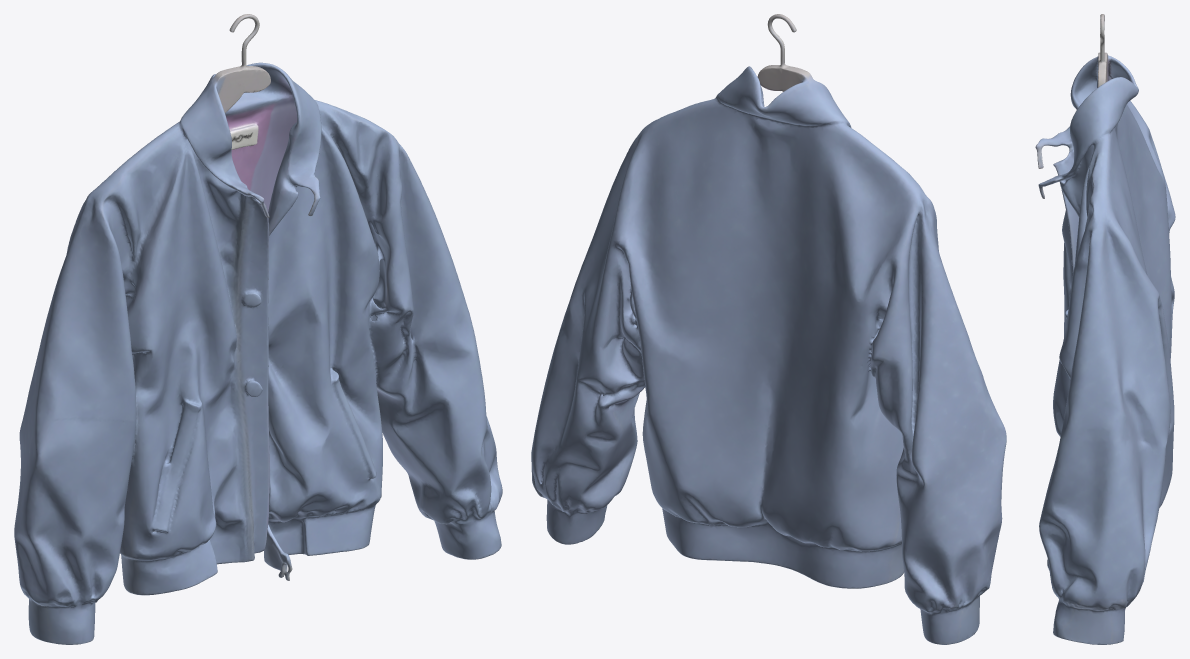
Rendered from Meshy_AI_Prism_Glow_Bomber_1017113150_texture.glb.
3 views of the same model, side by side, from view 1: azimuth 30°, elevation 25°; view 2: azimuth 150°, elevation 25°; view 3: azimuth 270°, elevation 25° (orthographic). The views are drawn at different scales.
Size of the model in its own units: 1.6 by 1.9 by 0.4537.
Materials: 1 (1 with a texture image).
